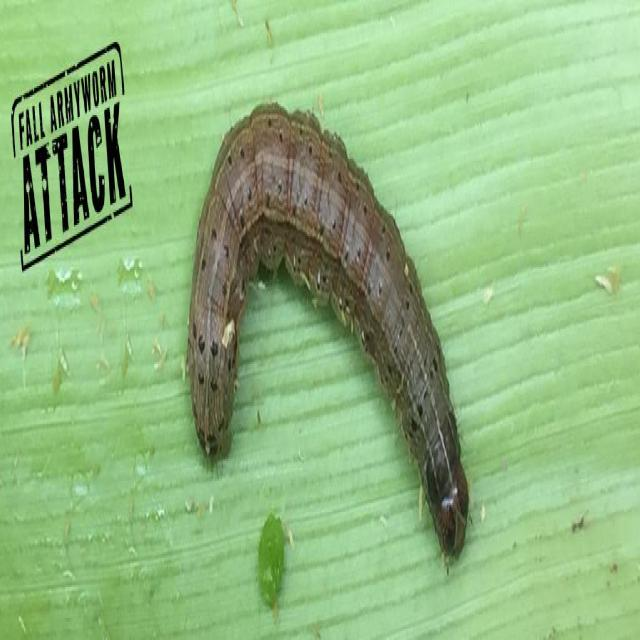Fall-armyworm: (186, 95, 473, 572)
